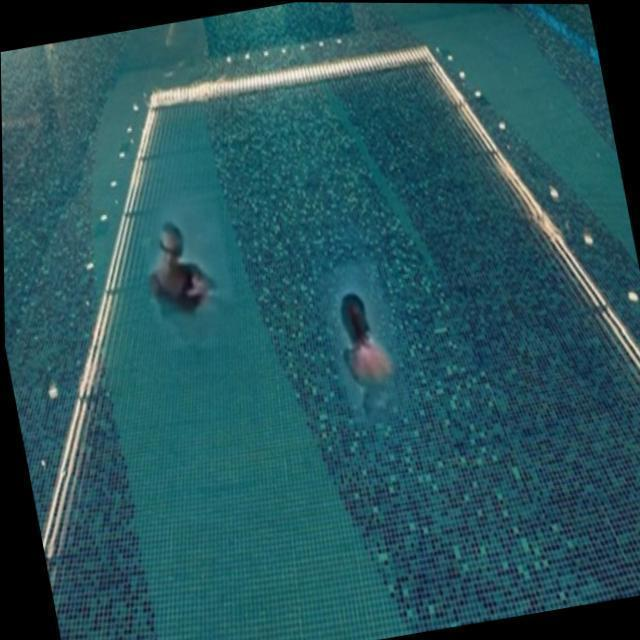swimming: (313, 281, 418, 419), (137, 215, 232, 321)
